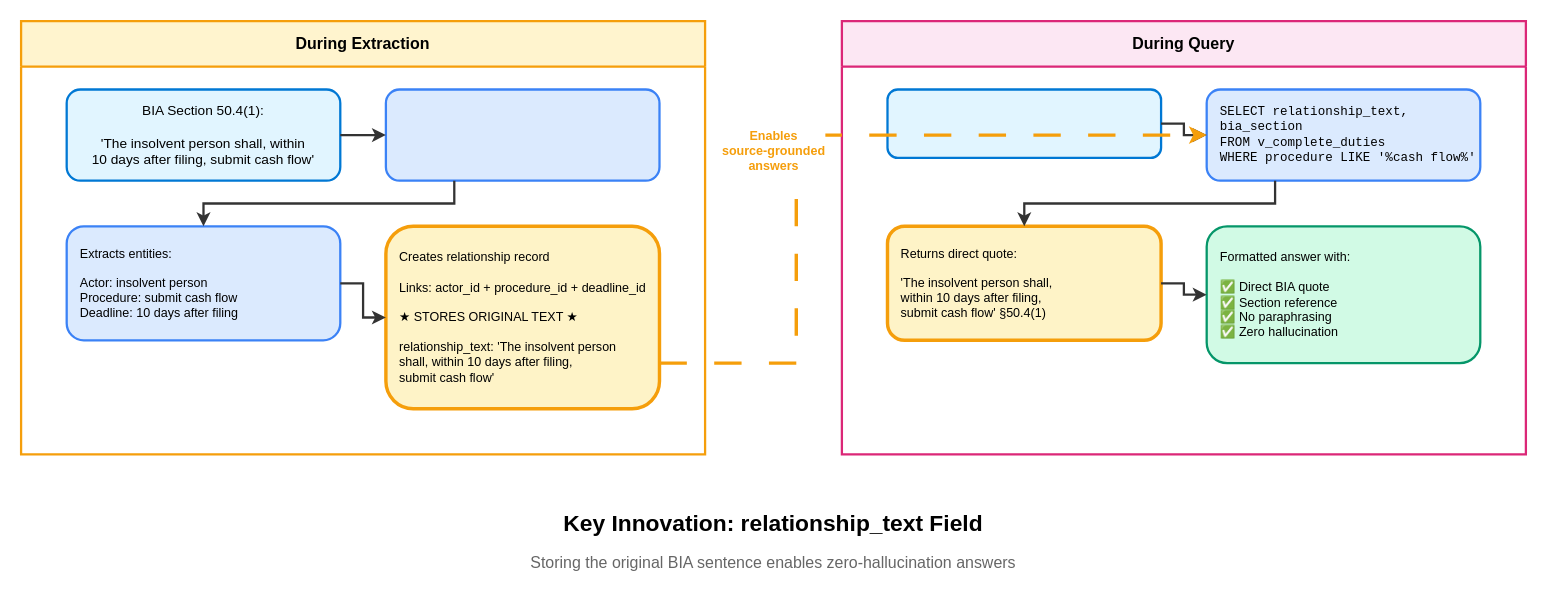
The diagram is 1546 pixels wide and 599 high, and some of its shapes have lost their labels. The shapes that lost their labels are listed below. From the top down, each one's centre as x and y in pixels, then its label:
At point (522, 134): "Gemini AI analyzes section".
At point (1024, 123): "User: When must debtor submit cash flow?".
